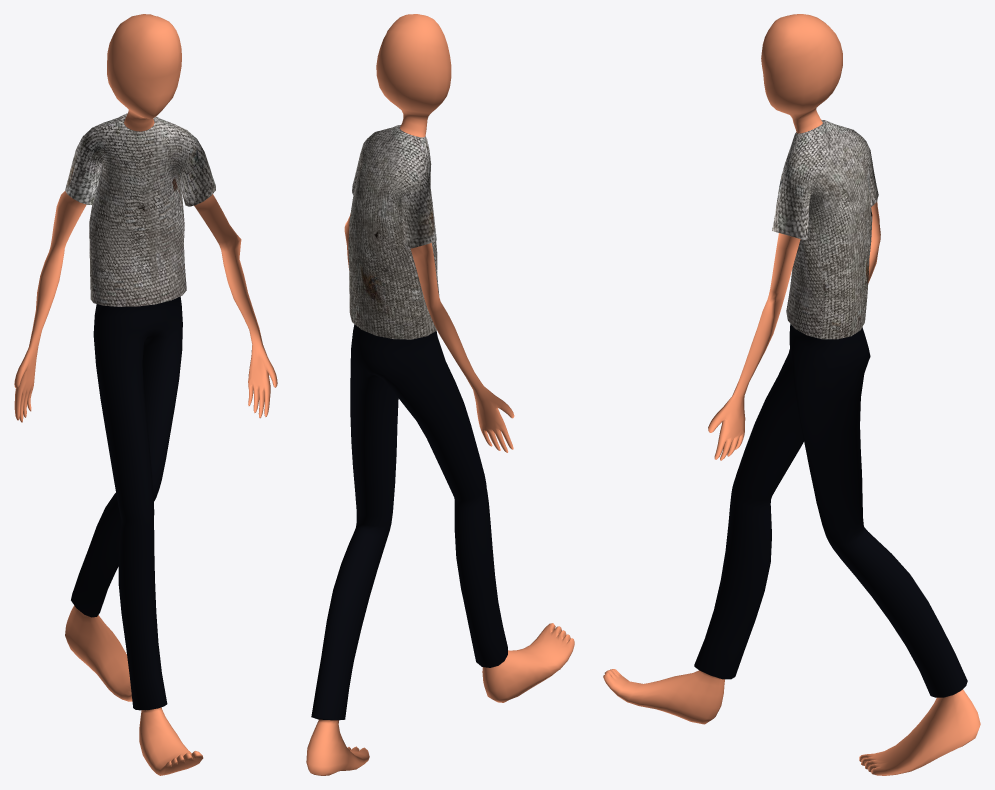
File: Player_Static.obj
3 views of the same model, side by side, from view 1: azimuth 30°, elevation 25°; view 2: azimuth 150°, elevation 25°; view 3: azimuth 270°, elevation 25° (orthographic). The views are drawn at different scales.
Parts seen in each view (by area): view 1: pCube7; view 2: pCube7; view 3: pCube7.
Part boxes in pixels (x1,y1,x2,y2): pCube7: (14, 14, 277, 775); pCube7: (306, 14, 574, 775); pCube7: (603, 14, 980, 775).
Size of the model in its own units: 1.29 by 4.31 by 2.
